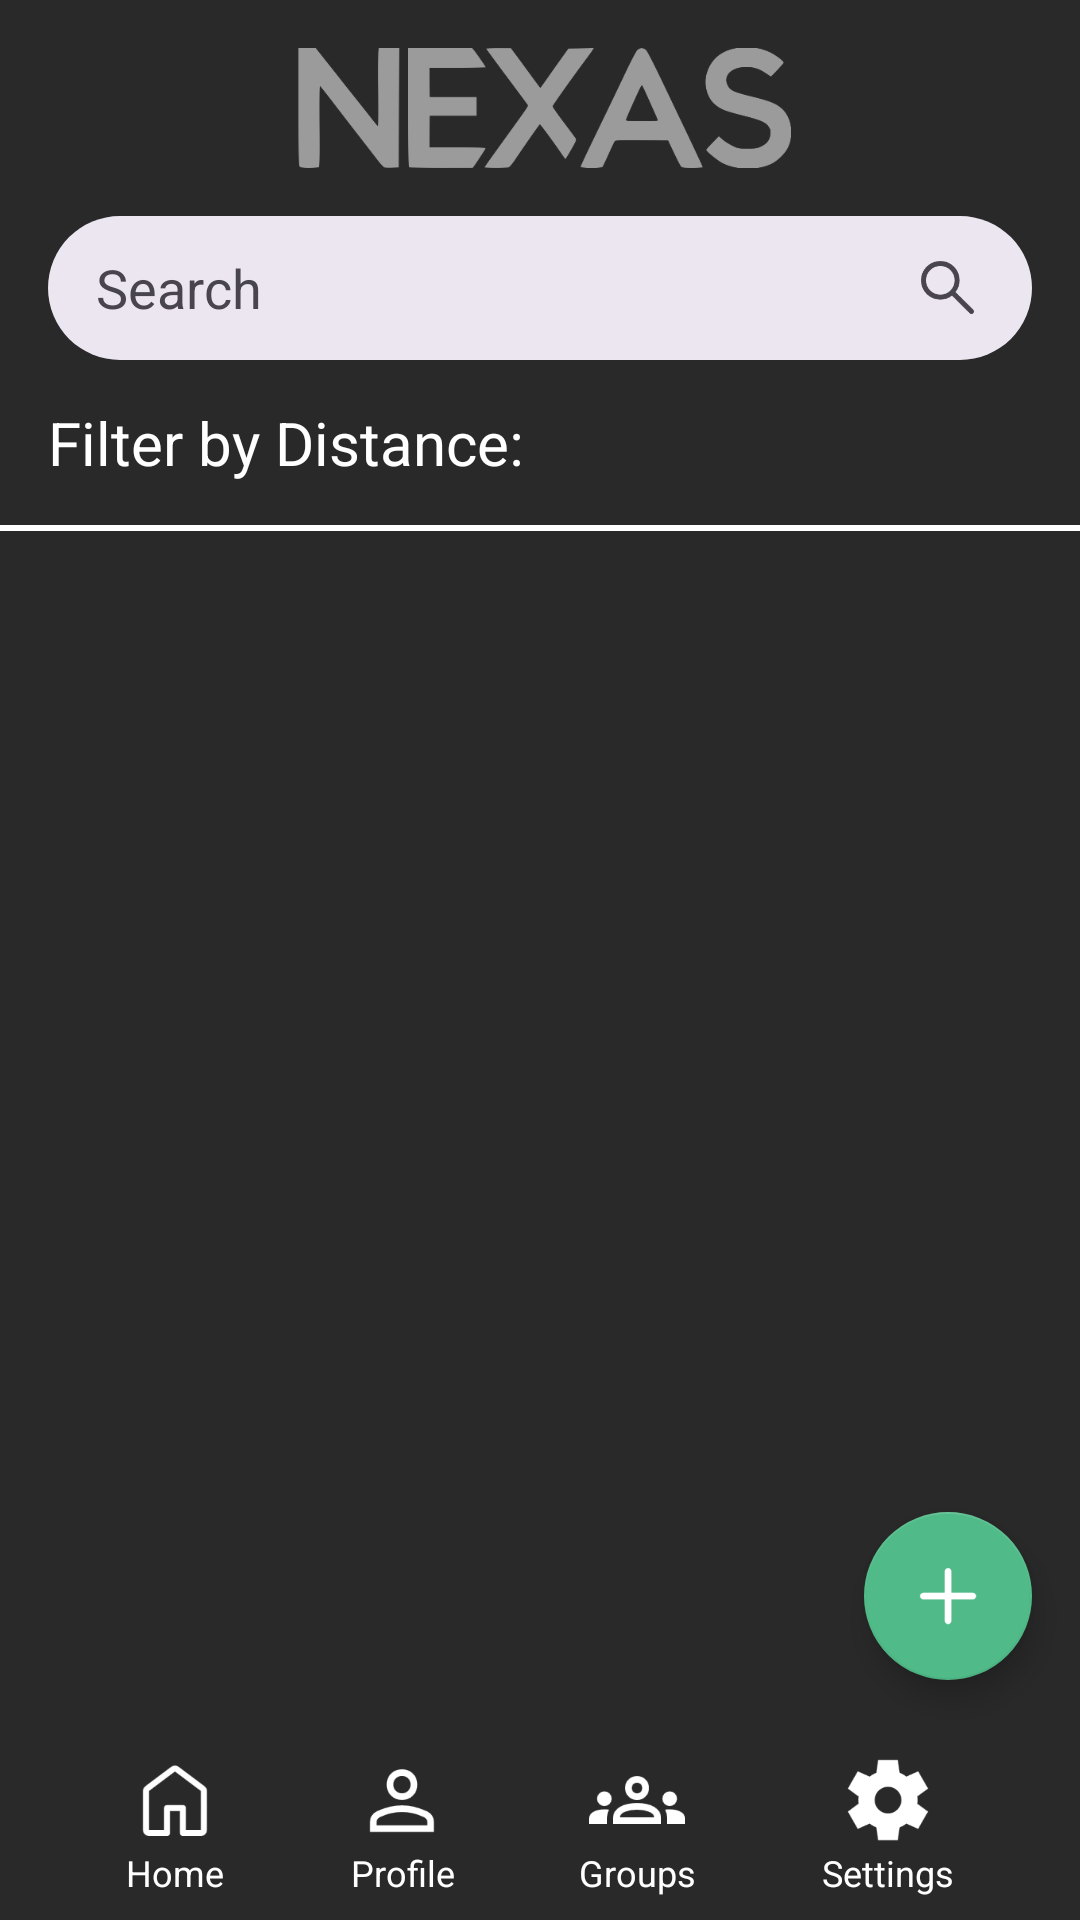

Icon click points for this 1080px×1920px phone screenshot, format [x,y]:
add: [948,1596]
